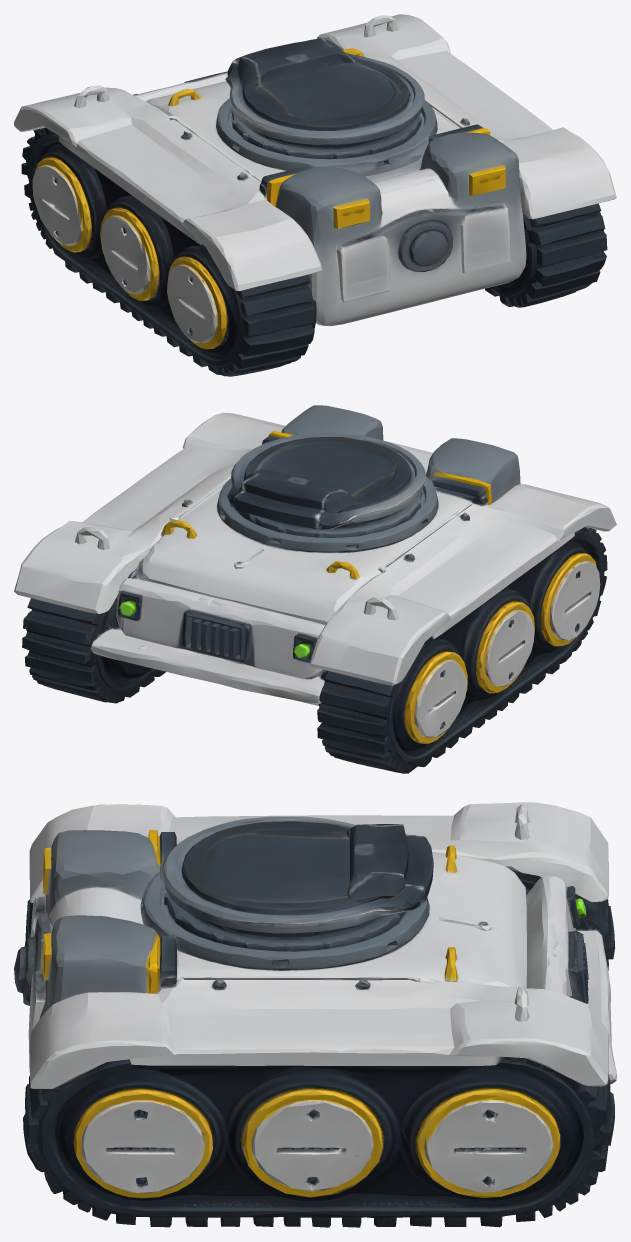
Rendered from light_tracks.glb.
3 renders of one model, top to bottom at view 1: azimuth 30°, elevation 25°; view 2: azimuth 150°, elevation 25°; view 3: azimuth 270°, elevation 25°, orthographic. The views are drawn at different scales.
Parts seen in each view (by area): view 1: Hull, TrackRight, TrackLeft, Face (×3); view 2: Hull, TrackRight, TrackLeft, Face (×3); view 3: TrackLeft, Hull, TrackRight, Face (×3).
Boxes of the visible parts, x1,y1,x2,y2 form: Hull: (133,38,526,326); TrackRight: (14,85,321,376); TrackLeft: (316,14,616,307); Face (×3): (32,164,232,343); Hull: (90,405,520,705); TrackRight: (309,484,616,773); TrackLeft: (14,412,285,703); Face (×3): (399,560,600,739); TrackLeft: (23,975,614,1227); Hull: (14,816,616,1084); TrackRight: (24,802,615,970); Face (×3): (68,1108,567,1186).
Size of the model in its own units: 1.65 by 0.847 by 1.72.
3 materials, 3 textured.
